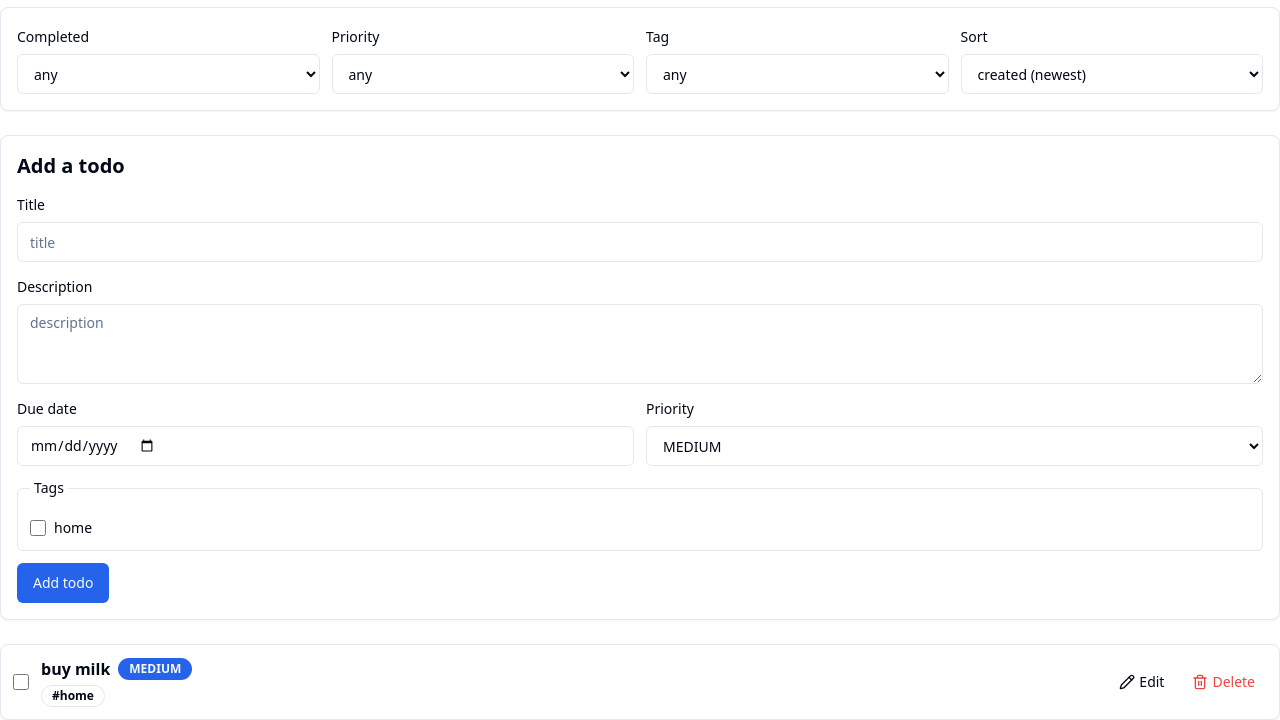
it: TodosPage › closes edit dialog on cancel
(page scrolled)
Expected: the text "buy milk" is shown, [41,657,110,681]
What coordinates should you click on to do the following:
click the button "Edit"
I would click on:
 (1142, 682)
Its box is [1107,664,1176,700].
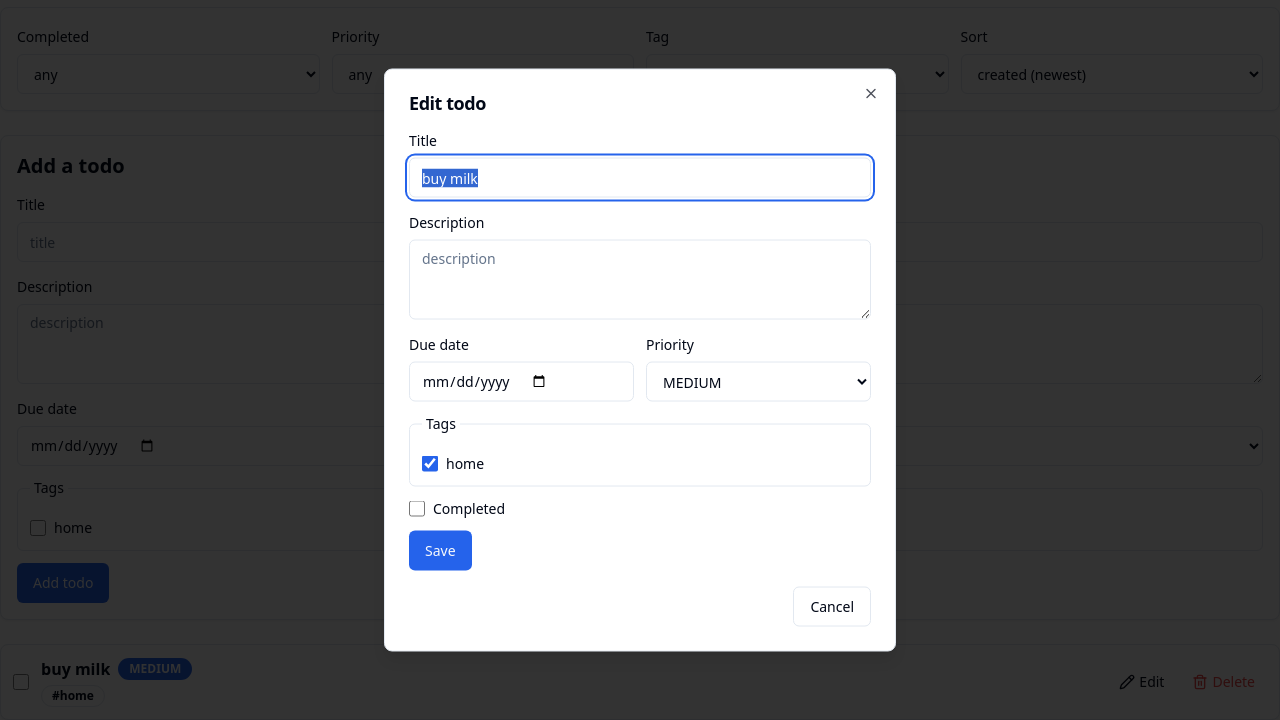
What coordinates should you click on to do the following:
click the button "Cancel"
I would click on:
 (832, 606)
Its box is [793,586,871,626].
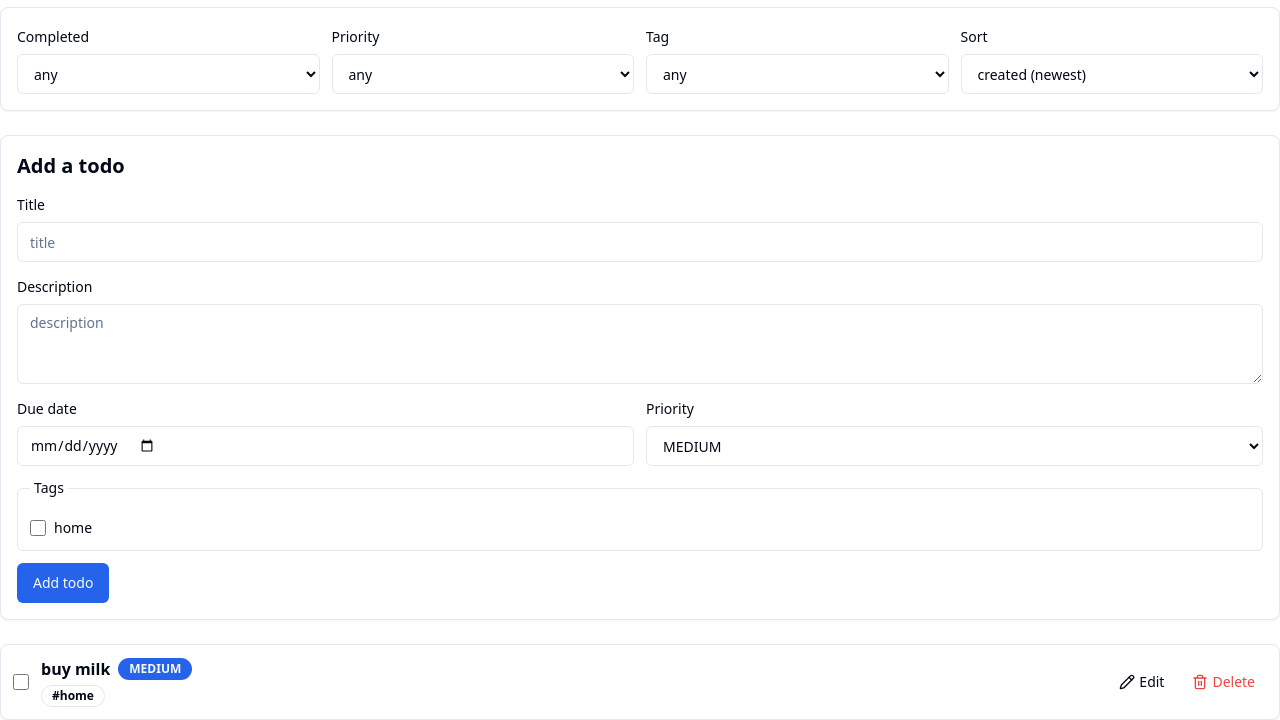
Expected: the heading "Edit todo" is gone
